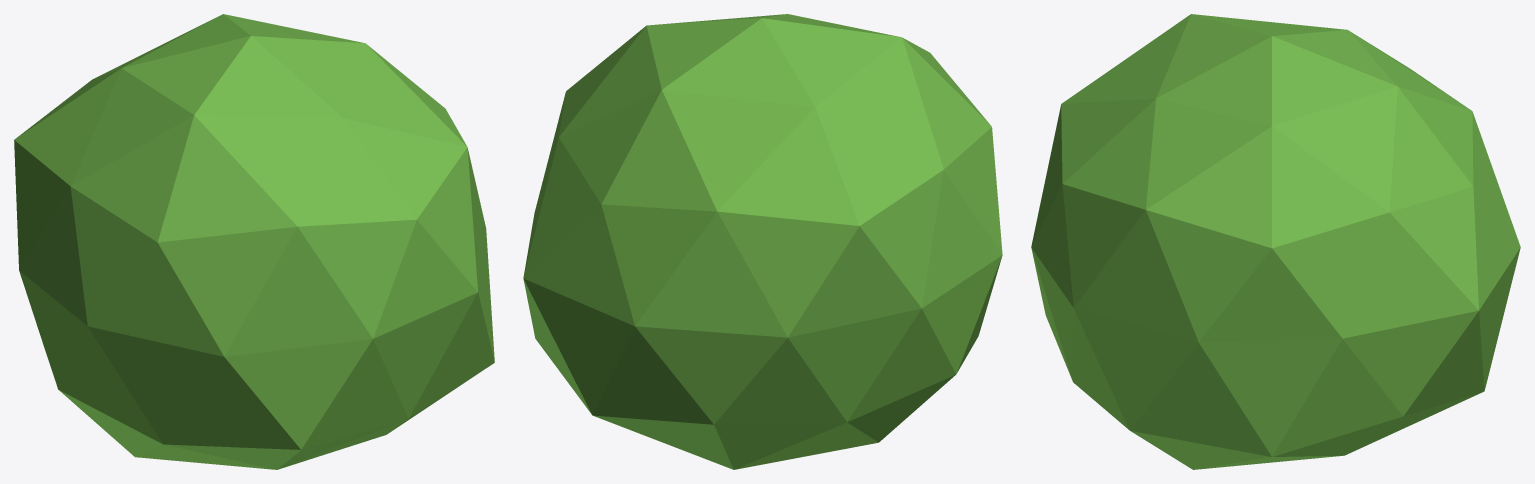
File: lettuce_head_whole.glb
3 views of the same model, side by side, from view 1: azimuth 30°, elevation 25°; view 2: azimuth 150°, elevation 25°; view 3: azimuth 270°, elevation 25° (orthographic). The views are drawn at different scales.
Parts seen in each view (by area): view 1: lettuce_head_whole_0; view 2: lettuce_head_whole_0; view 3: lettuce_head_whole_0.
Part boxes in pixels (x1,y1,x2,y2): lettuce_head_whole_0: [14, 14, 494, 469]; lettuce_head_whole_0: [523, 14, 1002, 469]; lettuce_head_whole_0: [1031, 14, 1520, 469].
Size of the model in its own units: 0.2563 by 0.2412 by 0.2759.
